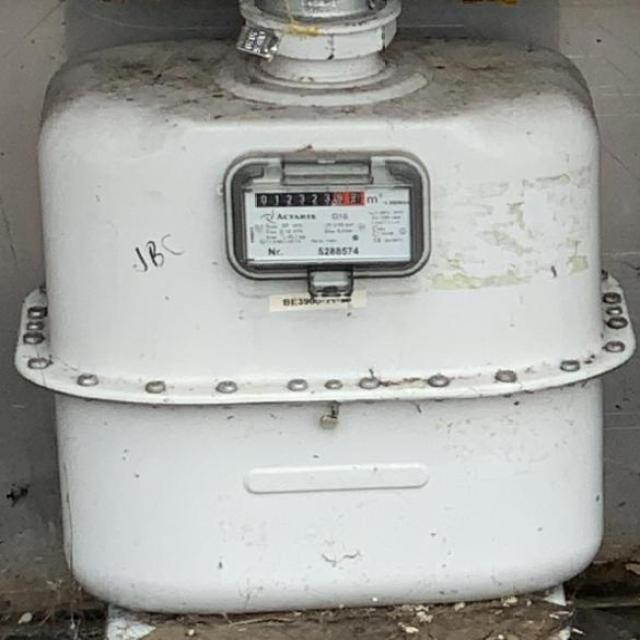gaz_meter: (239, 188, 415, 262)
indication: (255, 192, 365, 208)
